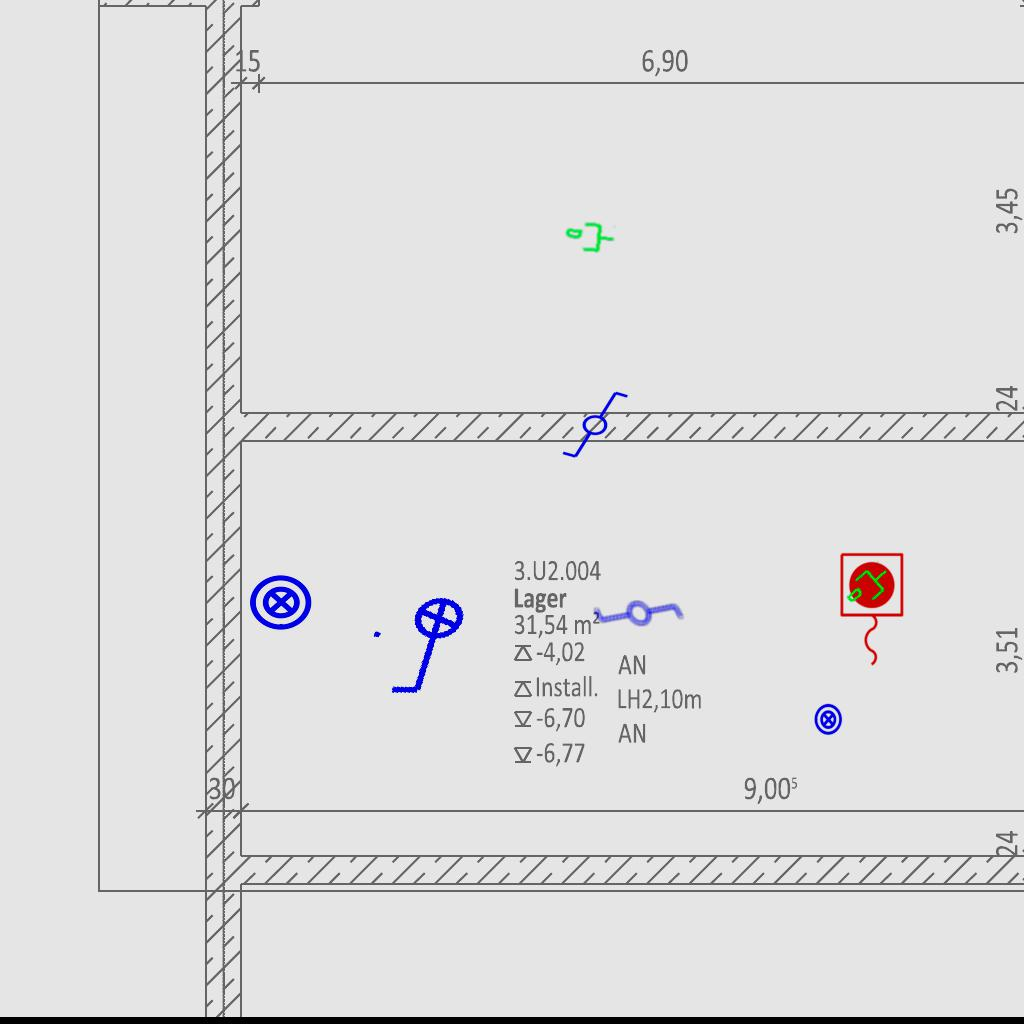Ausschalter_beleuchtet: (362, 587, 496, 709)
Datenanschluss_einfach: (838, 557, 900, 617), (563, 218, 617, 258)
Taster_beleuchtet: (248, 569, 314, 635), (812, 703, 845, 736)
Wechselschalter: (588, 563, 694, 671), (552, 388, 630, 460)
Zugtaster: (835, 549, 907, 671)
